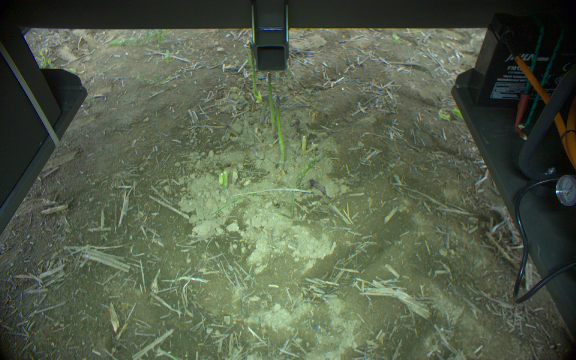aspa: (295, 150, 323, 186), (247, 40, 261, 102), (266, 73, 278, 141), (275, 96, 285, 172)
